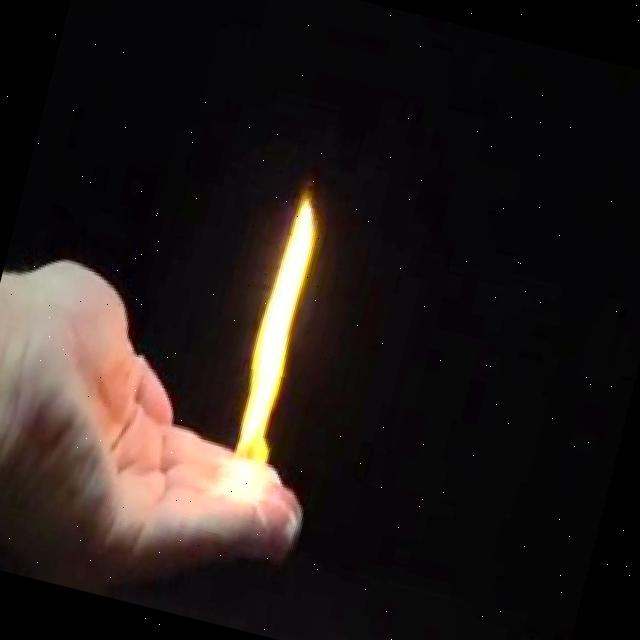fire: (204, 282, 314, 521)
